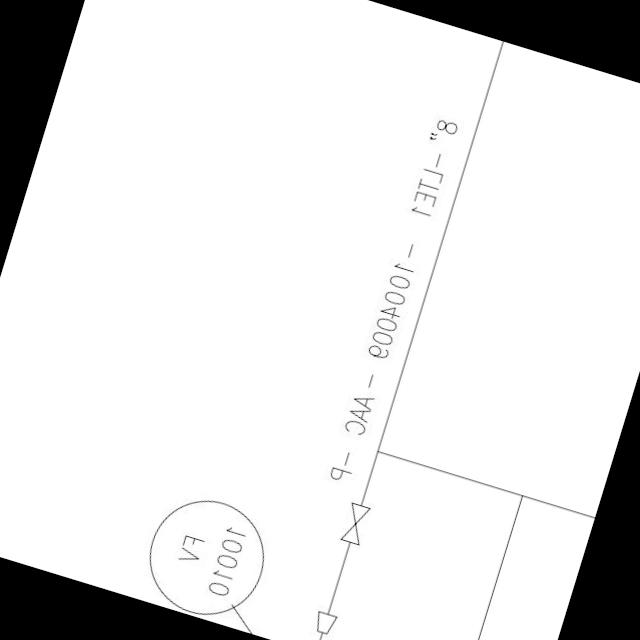GV: (335, 496, 373, 552)
SP: (309, 605, 342, 639)
